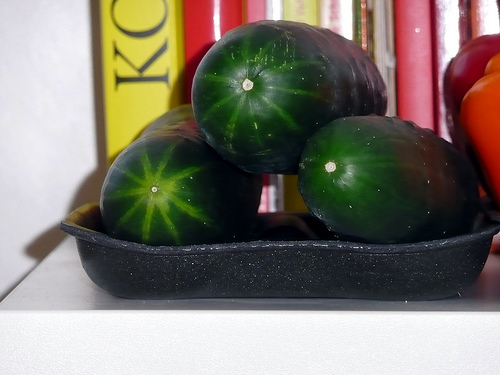cucumber: (189, 20, 386, 172), (295, 113, 483, 245), (100, 101, 262, 246)
